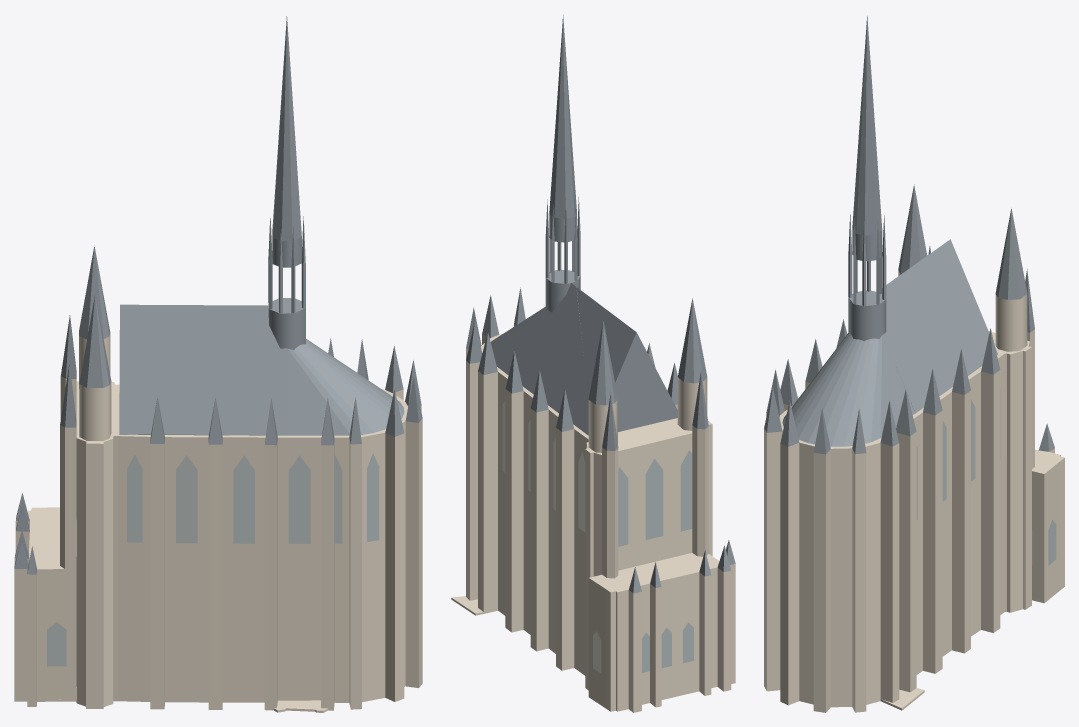
The picture shows the model from 3 angles, left to right: view 1: azimuth 30°, elevation 25°; view 2: azimuth 150°, elevation 25°; view 3: azimuth 270°, elevation 25°; orthographic projection. The views are drawn at different scales.
Visible parts, largest first — view 1: stone, roof, window; view 2: stone, roof, window; view 3: stone, roof, window.
Part boxes in pixels (<box>): stone: <box>14,332,422,712</box>; roof: <box>14,16,422,574</box>; window: <box>47,437,379,666</box>; stone: <box>451,325,735,712</box>; roof: <box>466,14,735,593</box>; window: <box>502,400,693,673</box>; stone: <box>764,271,1064,712</box>; roof: <box>764,16,1054,454</box>; window: <box>916,389,1056,565</box>.
Size of the model in its own units: 40.37 by 75 by 31.64.
